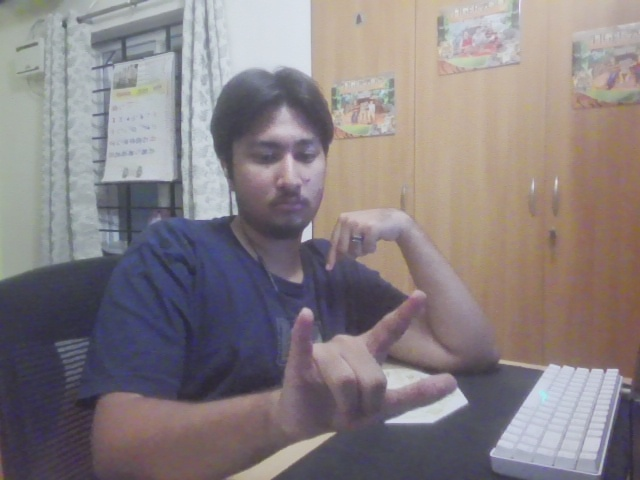iloveyou: (279, 287, 460, 453)
